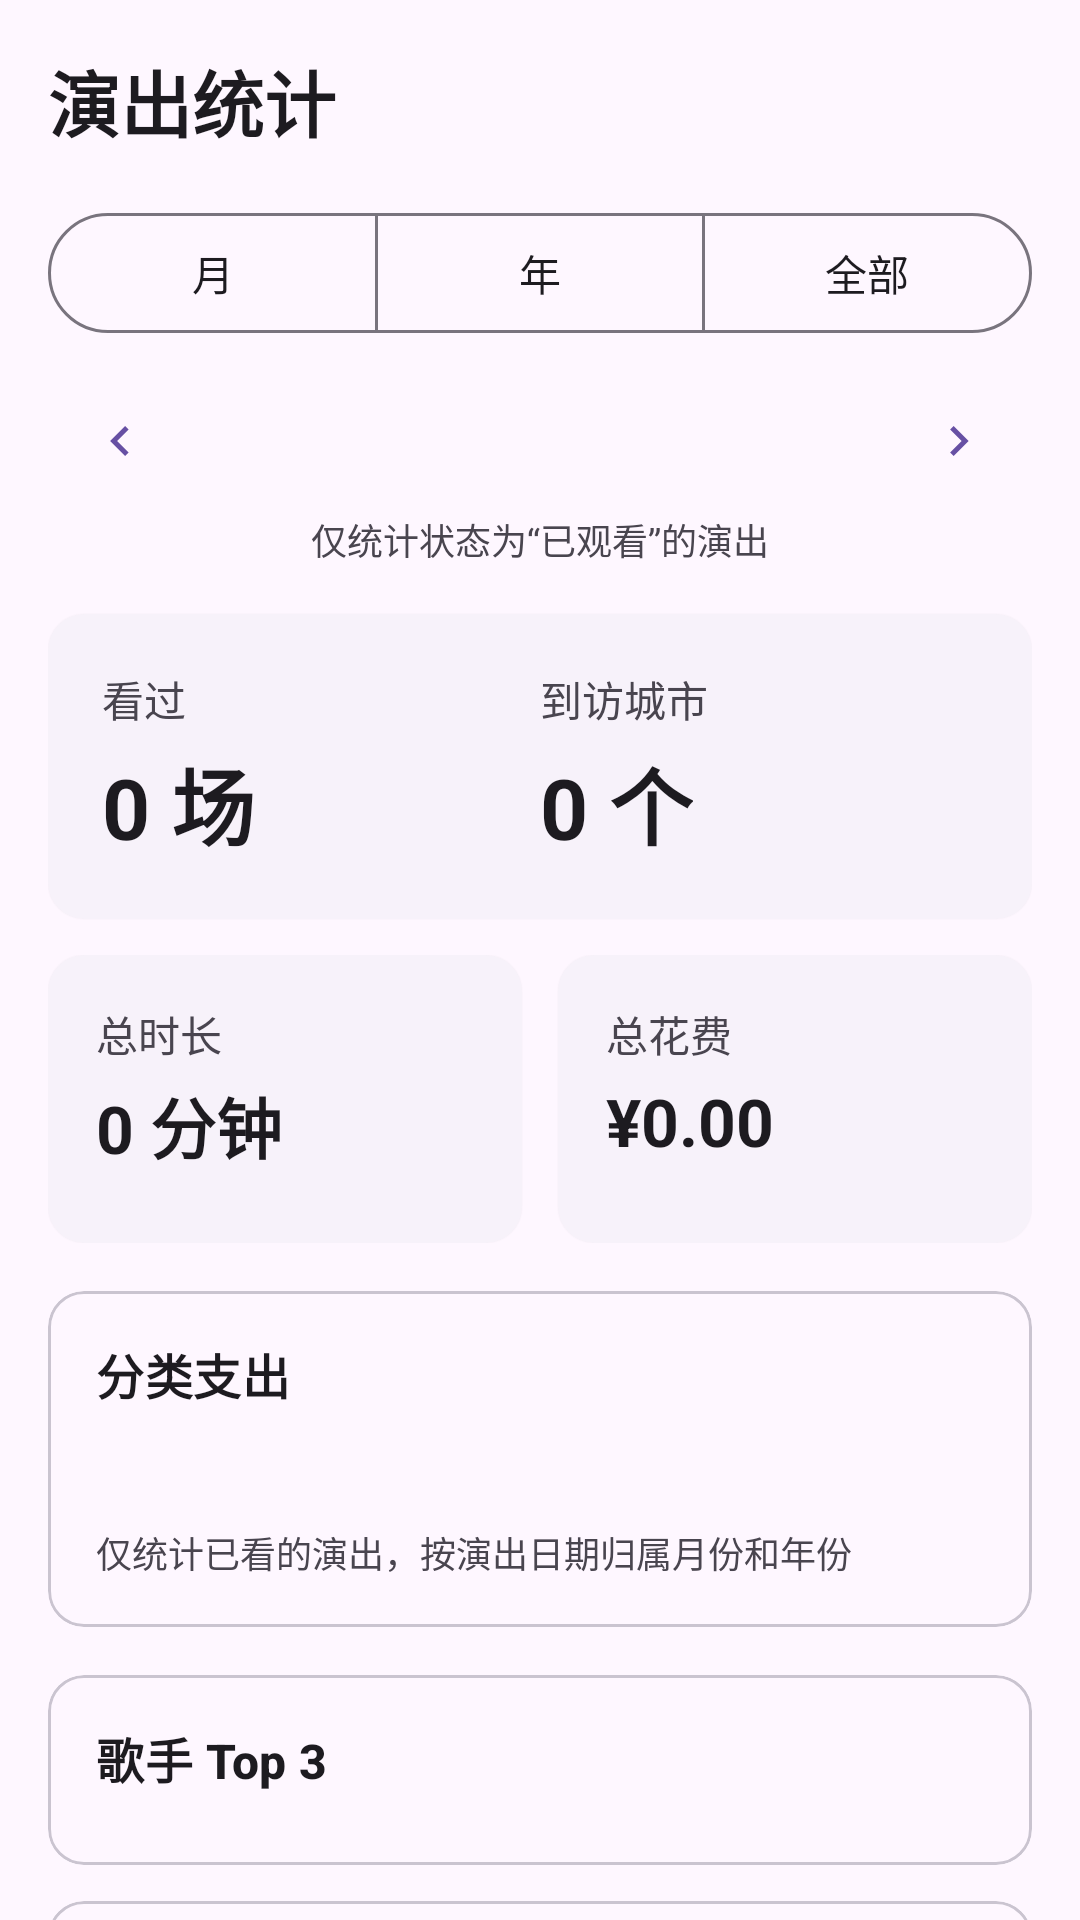

Screen size 1080 x 1920. Icon name, then its box in pixels as (x1, y1, x2, y2):
chevron left: (110, 426, 129, 456)
chevron right: (950, 426, 969, 456)
